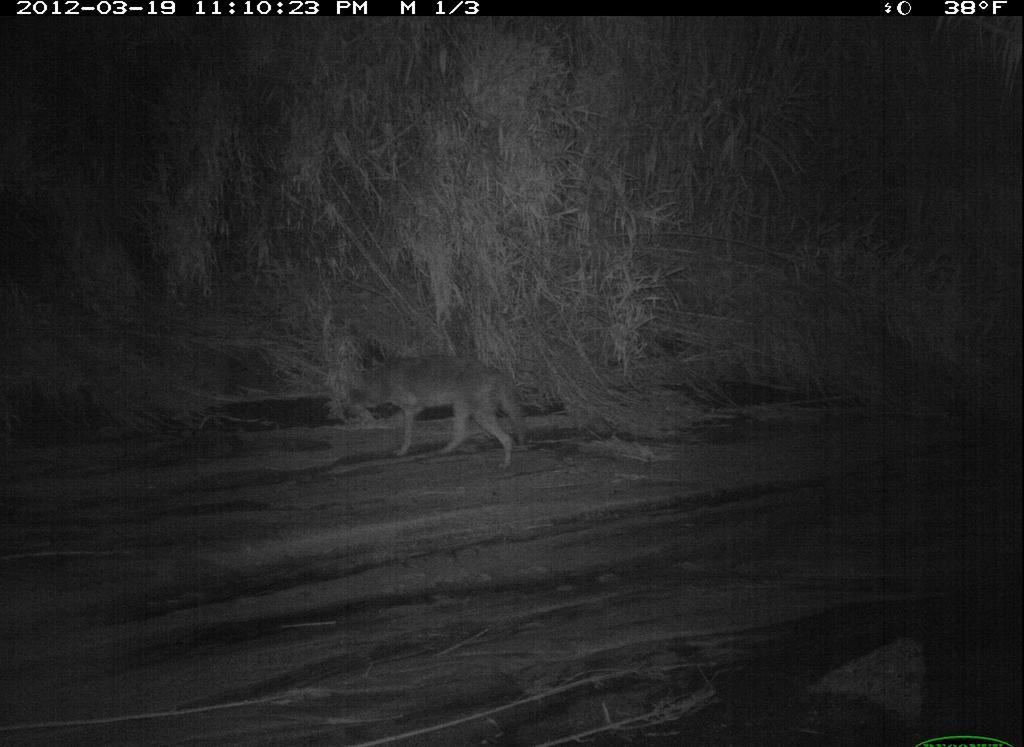coyote: (349, 337, 533, 473)
